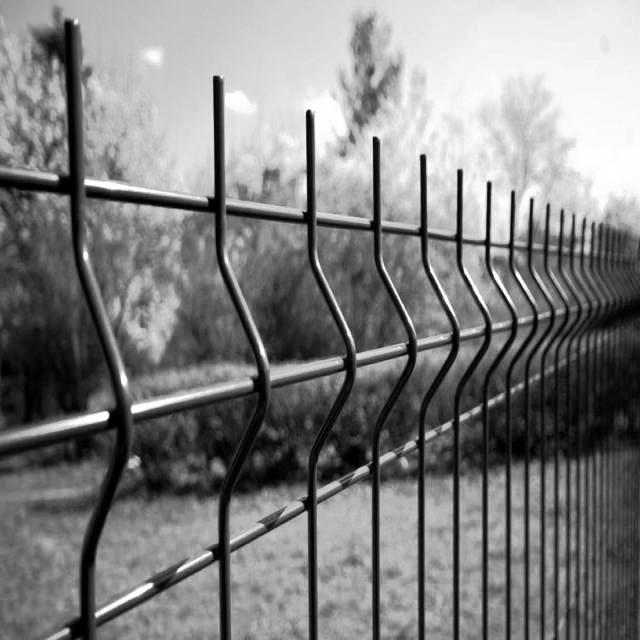fences: (9, 27, 640, 640)
